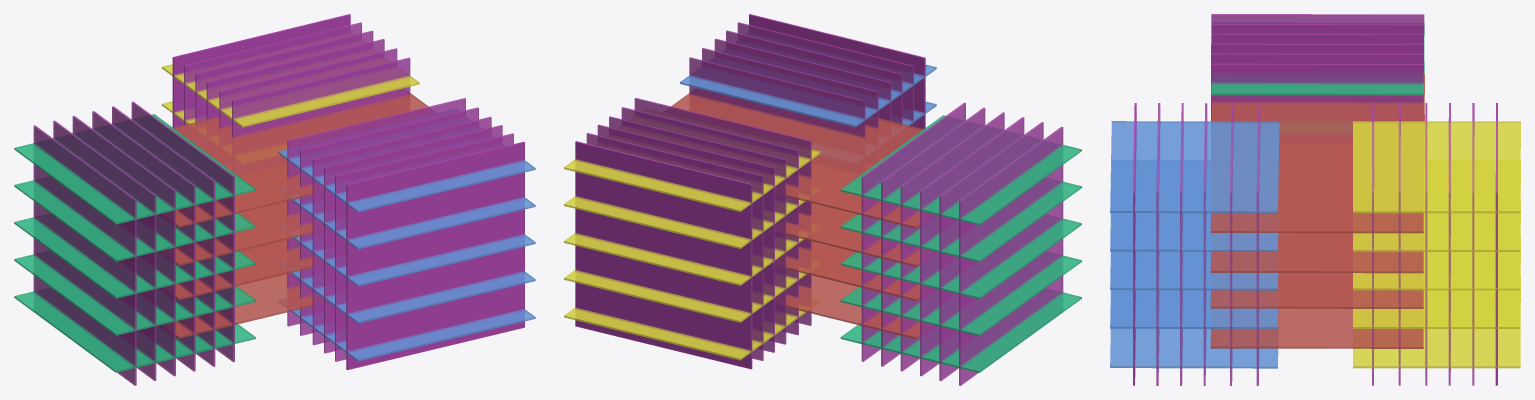
Rendered from shelf_1.glb.
3 views of the same model, side by side, from view 1: azimuth 30°, elevation 25°; view 2: azimuth 150°, elevation 25°; view 3: azimuth 270°, elevation 25° (orthographic). The views are drawn at different scales.
Visible parts, largest first — view 1: Cube.032, Cube.037, Cube.017, Cube.008, Cube.011, Cube.012, Cube.015, Cube.016, Cube.019, Cube.003, Cube.018, Cube.027 (+23 smaller); view 2: Cube.013, Cube.023, Cube.017, Cube.008, Cube.039, Cube.012, Cube.015, Cube.016, Cube.003, Cube.018, Cube.019, Cube.028 (+23 smaller); view 3: Cube.008, Cube.021, Cube.034, Cube.018, Cube.001, Cube.005, Cube.029, Cube.002, Cube.031, Cube.026, Cube.024, Cube.030 (+23 smaller).
Part boxes in pixels (x1,y1,x2,y2): Cube.032: (346,141,524,370); Cube.037: (346,142,524,369); Cube.017: (33,125,136,385); Cube.008: (173,93,428,227); Cube.011: (232,57,410,139); Cube.012: (14,114,255,224); Cube.015: (53,120,156,380); Cube.016: (72,116,175,376); Cube.019: (112,106,215,366); Cube.003: (92,111,195,371); Cube.018: (131,101,234,362); Cube.027: (312,116,491,345); Cube.013: (575,141,752,369); Cube.023: (575,141,751,368); Cube.017: (959,126,1063,385); Cube.008: (671,93,923,228); Cube.039: (689,57,865,139); Cube.012: (840,115,1081,225); Cube.015: (939,122,1043,380); Cube.016: (920,117,1024,376); Cube.003: (900,112,1004,371); Cube.018: (861,102,965,361); Cube.019: (881,107,985,366); Cube.028: (609,116,786,344); Cube.008: (1210,74,1424,233); Cube.021: (1353,121,1520,213); Cube.034: (1110,121,1279,213); Cube.018: (1211,63,1423,121); Cube.001: (1210,114,1424,273); Cube.005: (1210,308,1423,348); Cube.029: (1110,328,1278,368); Cube.002: (1210,273,1423,308); Cube.031: (1110,290,1278,329); Cube.026: (1353,277,1520,368); Cube.024: (1353,237,1520,328); Cube.030: (1110,213,1278,251).
Size of the model in its own units: 4.21 by 2 by 3.86.
